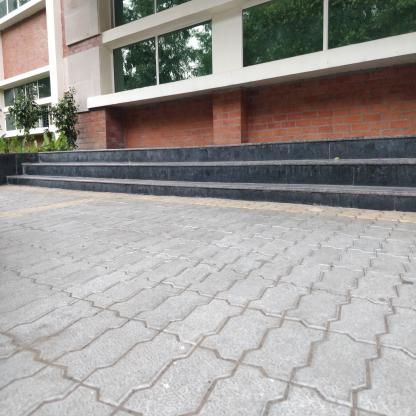stairs: (89, 153, 365, 218)
